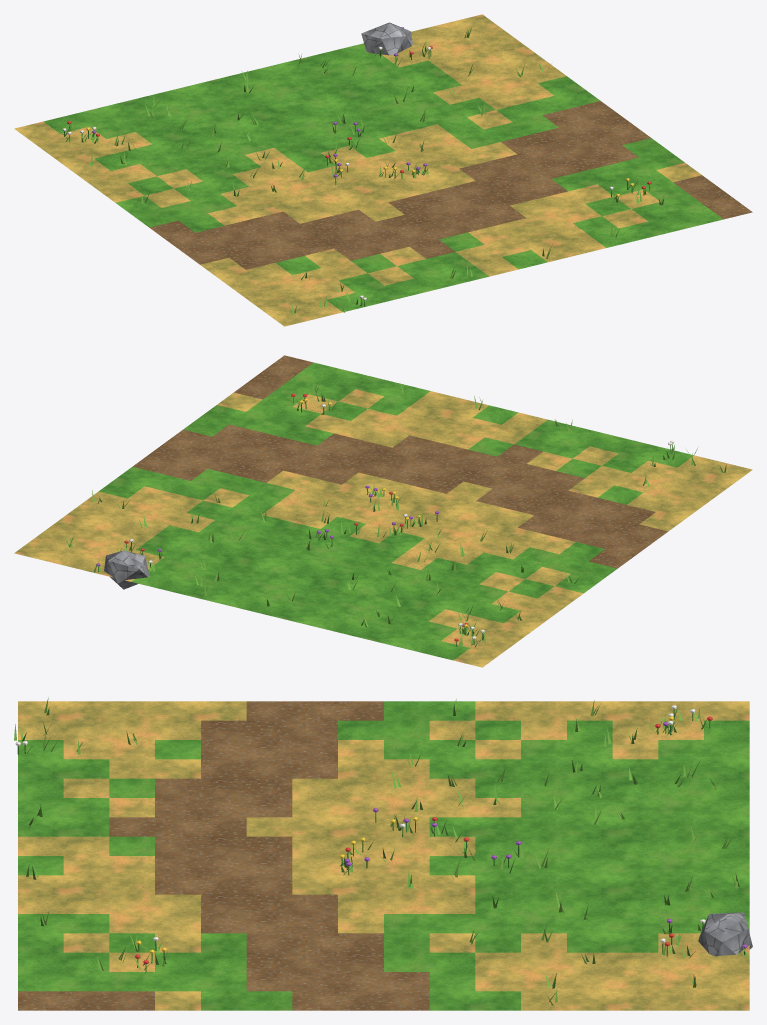
Rendered from chunk_1_12.glb.
3 renders of one model, top to bottom at view 1: azimuth 30°, elevation 25°; view 2: azimuth 150°, elevation 25°; view 3: azimuth 270°, elevation 25°, orthographic. The views are drawn at different scales.
Visible parts, largest first — view 1: chunk_1_12; view 2: chunk_1_12; view 3: chunk_1_12.
Part boxes in pixels (bbox=[...]): chunk_1_12: bbox=[14, 14, 752, 326]; chunk_1_12: bbox=[14, 355, 752, 667]; chunk_1_12: bbox=[14, 698, 752, 1010].
Size of the model in its own units: 16 by 1.23 by 16.15.
Materials: 10 (5 with a texture image).
